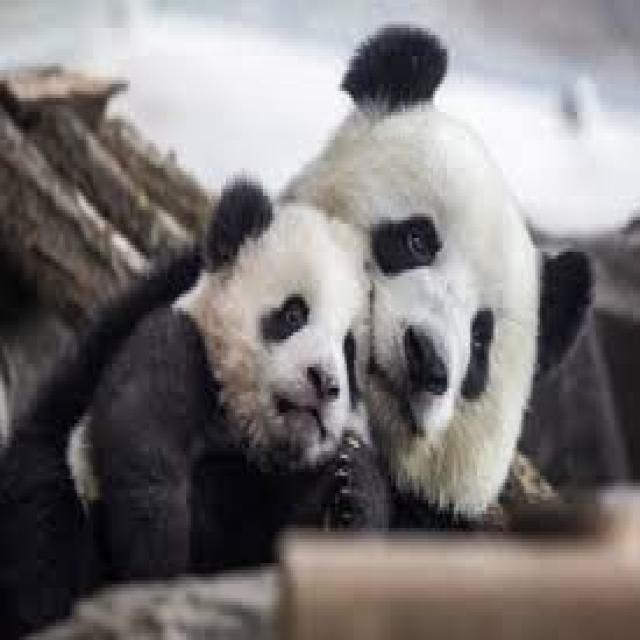Panda: (0, 181, 382, 640), (323, 23, 596, 524)
